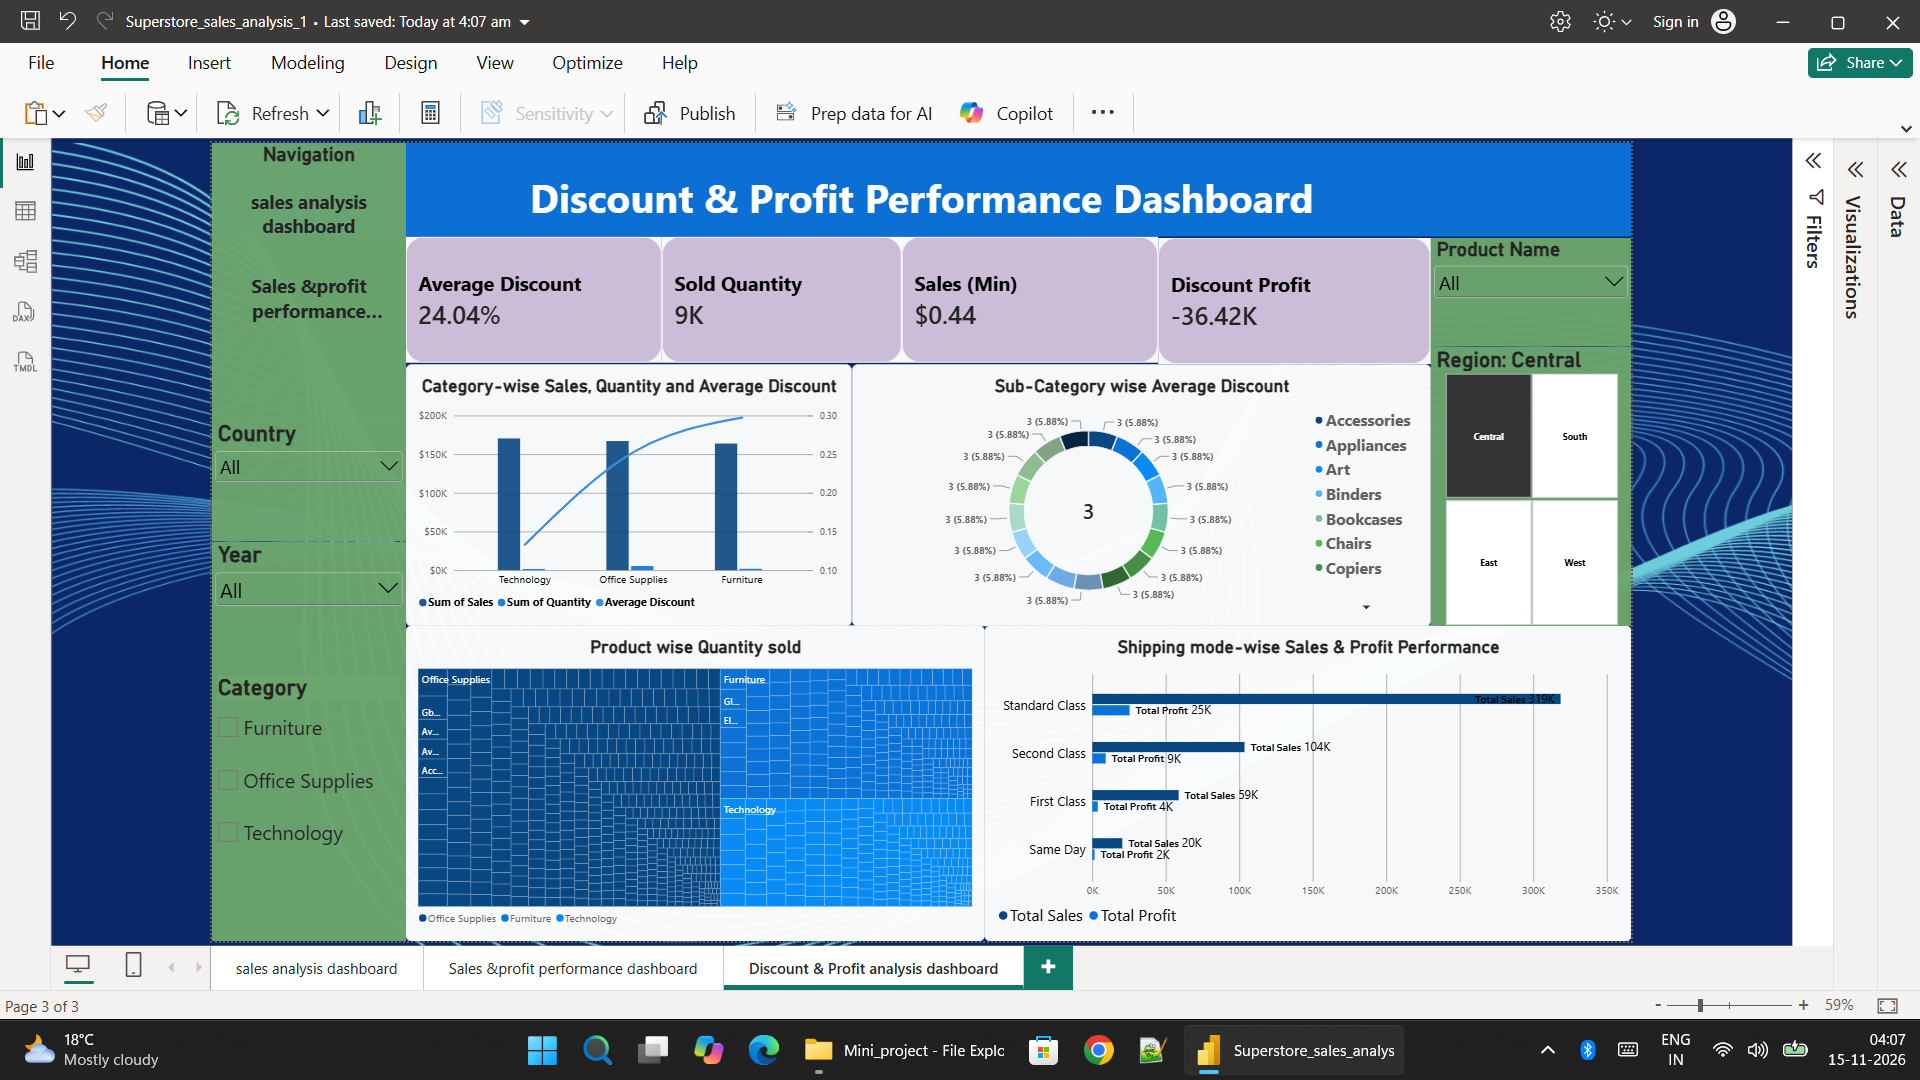

Layout of this report page (visuals, bound fields, positions):
{"tool":"powerbi","page":{"name":"Discount & Profit analysis dashboard","canvas":[1920,1080],"ordinal":2},"visuals":[{"type":"textbox","box":[0,0,1920.5,126.6],"z":0},{"type":"cardVisual","fields":{"Data":["Solution_sales_Data_cleaning.Average Discount"]},"box":[262.3,126.6,346.7,170.6],"z":1000},{"type":"cardVisual","fields":{"Data":["Solution_sales_Data_cleaning.Total Quantity sold"]},"box":[609,126.6,324.7,170.6],"z":2000},{"type":"cardVisual","fields":{"Data":["Solution_sales_Data_cleaning.Discount Profit"]},"box":[1280.3,128.4,368.7,170.6],"z":3000},{"type":"cardVisual","fields":{"Data":["Solution_sales_Data_cleaning.Sales (Min)"]},"box":[933.6,126.6,346.7,170.6],"z":4000},{"type":"lineClusteredColumnComboChart","title":"Category-wise Sales, Quantity and Average Discount","fields":{"Category":["Category_wise_profit_analysis.Category"],"Y":["Sum(Solution_sales_Data_cleaning.Sales)","Sum(Solution_sales_Data_cleaning.Quantity)"],"Y2":["Solution_sales_Data_cleaning.Average Discount"]},"box":[262.3,299,603.5,354],"z":5000},{"type":"donutChart","title":"Sub-Category wise Average Discount","fields":{"Category":["Solution_sales_Data_cleaning.Sub-Category"],"Y":["CountNonNull(Average_Sales_Analysis.Average Discount)"]},"box":[865.8,299,783.2,354],"z":6000},{"type":"treemap","title":"Product wise Quantity sold","fields":{"Details":["Solution_sales_Data_cleaning.Product Name"],"Group":["Category_wise_profit_analysis.Category"],"Values":["Solution_sales_Data_cleaning.Total Quantity"]},"box":[262.3,653,783.2,427.4],"z":7000},{"type":"clusteredBarChart","title":"Shipping mode-wise Sales & Profit Performance","fields":{"Category":["Solution_sales_Data_cleaning.Ship Mode"],"Y":["Solution_sales_Data_cleaning.Total Sales","Solution_sales_Data_cleaning.Total Profit"]},"box":[1045.5,653,874.9,427.4],"z":8000},{"type":"pageNavigator","title":"Navigation","box":[0,0,262.3,376],"z":9000},{"type":"slicer","fields":{"Values":["Solution_sales_Data_cleaning.Country"]},"box":[0,376,262.3,163.2],"z":9001},{"type":"slicer","fields":{"Values":["Solution_sales_Data_cleaning.Order Date.Variation.Date Hierarchy.Year"]},"box":[0,539.3,262.3,179.8],"z":9002},{"type":"slicer","fields":{"Values":["Solution_sales_Data_cleaning.Category"]},"box":[0,719,262.3,361.3],"z":9003},{"type":"slicer","fields":{"Values":["Solution_sales_Data_cleaning.Product Name"]},"box":[1649,128.4,271.5,146.7],"z":9004},{"type":"slicer","fields":{"Values":["Solution_sales_Data_cleaning.Region"]},"box":[1649,275.1,271.5,377.9],"z":9005}]}

Visuals, with their boxes on the page's 1920x1080 design canvas (x1, y1, x2, y2). These are canvas units, not pixel positions in the 1920x1080 screenshot, which may show the page scaled, cropped or inside an application window:
textbox: <bbox>0, 0, 1920, 127</bbox>
cardVisual - Solution_sales_Data_cleaning.Average Discount: <bbox>262, 127, 609, 297</bbox>
cardVisual - Solution_sales_Data_cleaning.Total Quantity sold: <bbox>609, 127, 934, 297</bbox>
cardVisual - Solution_sales_Data_cleaning.Discount Profit: <bbox>1280, 128, 1649, 299</bbox>
cardVisual - Solution_sales_Data_cleaning.Sales (Min): <bbox>934, 127, 1280, 297</bbox>
"Category-wise Sales, Quantity and Average Discount" lineClusteredColumnComboChart: <bbox>262, 299, 866, 653</bbox>
"Sub-Category wise Average Discount" donutChart: <bbox>866, 299, 1649, 653</bbox>
"Product wise Quantity sold" treemap: <bbox>262, 653, 1046, 1080</bbox>
"Shipping mode-wise Sales & Profit Performance" clusteredBarChart: <bbox>1046, 653, 1920, 1080</bbox>
"Navigation" pageNavigator: <bbox>0, 0, 262, 376</bbox>
slicer - Solution_sales_Data_cleaning.Country: <bbox>0, 376, 262, 539</bbox>
slicer - Solution_sales_Data_cleaning.Order Date.Variation.Date Hierarchy.Year: <bbox>0, 539, 262, 719</bbox>
slicer - Solution_sales_Data_cleaning.Category: <bbox>0, 719, 262, 1080</bbox>
slicer - Solution_sales_Data_cleaning.Product Name: <bbox>1649, 128, 1920, 275</bbox>
slicer - Solution_sales_Data_cleaning.Region: <bbox>1649, 275, 1920, 653</bbox>
